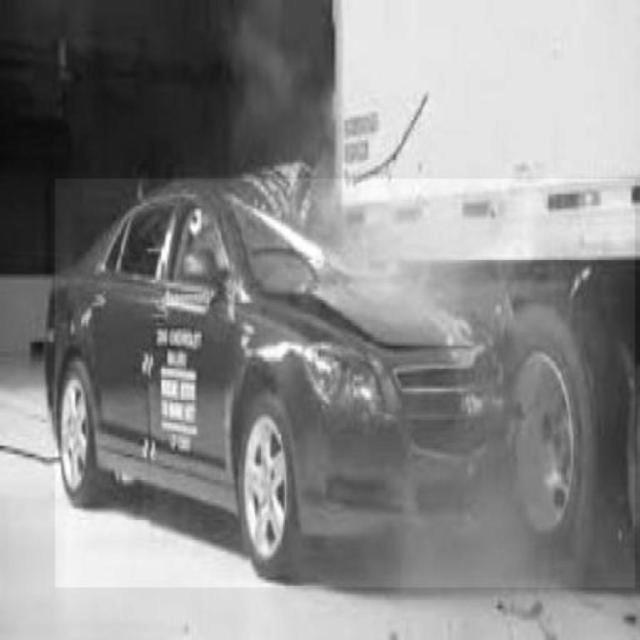accident: (56, 180, 636, 588)
